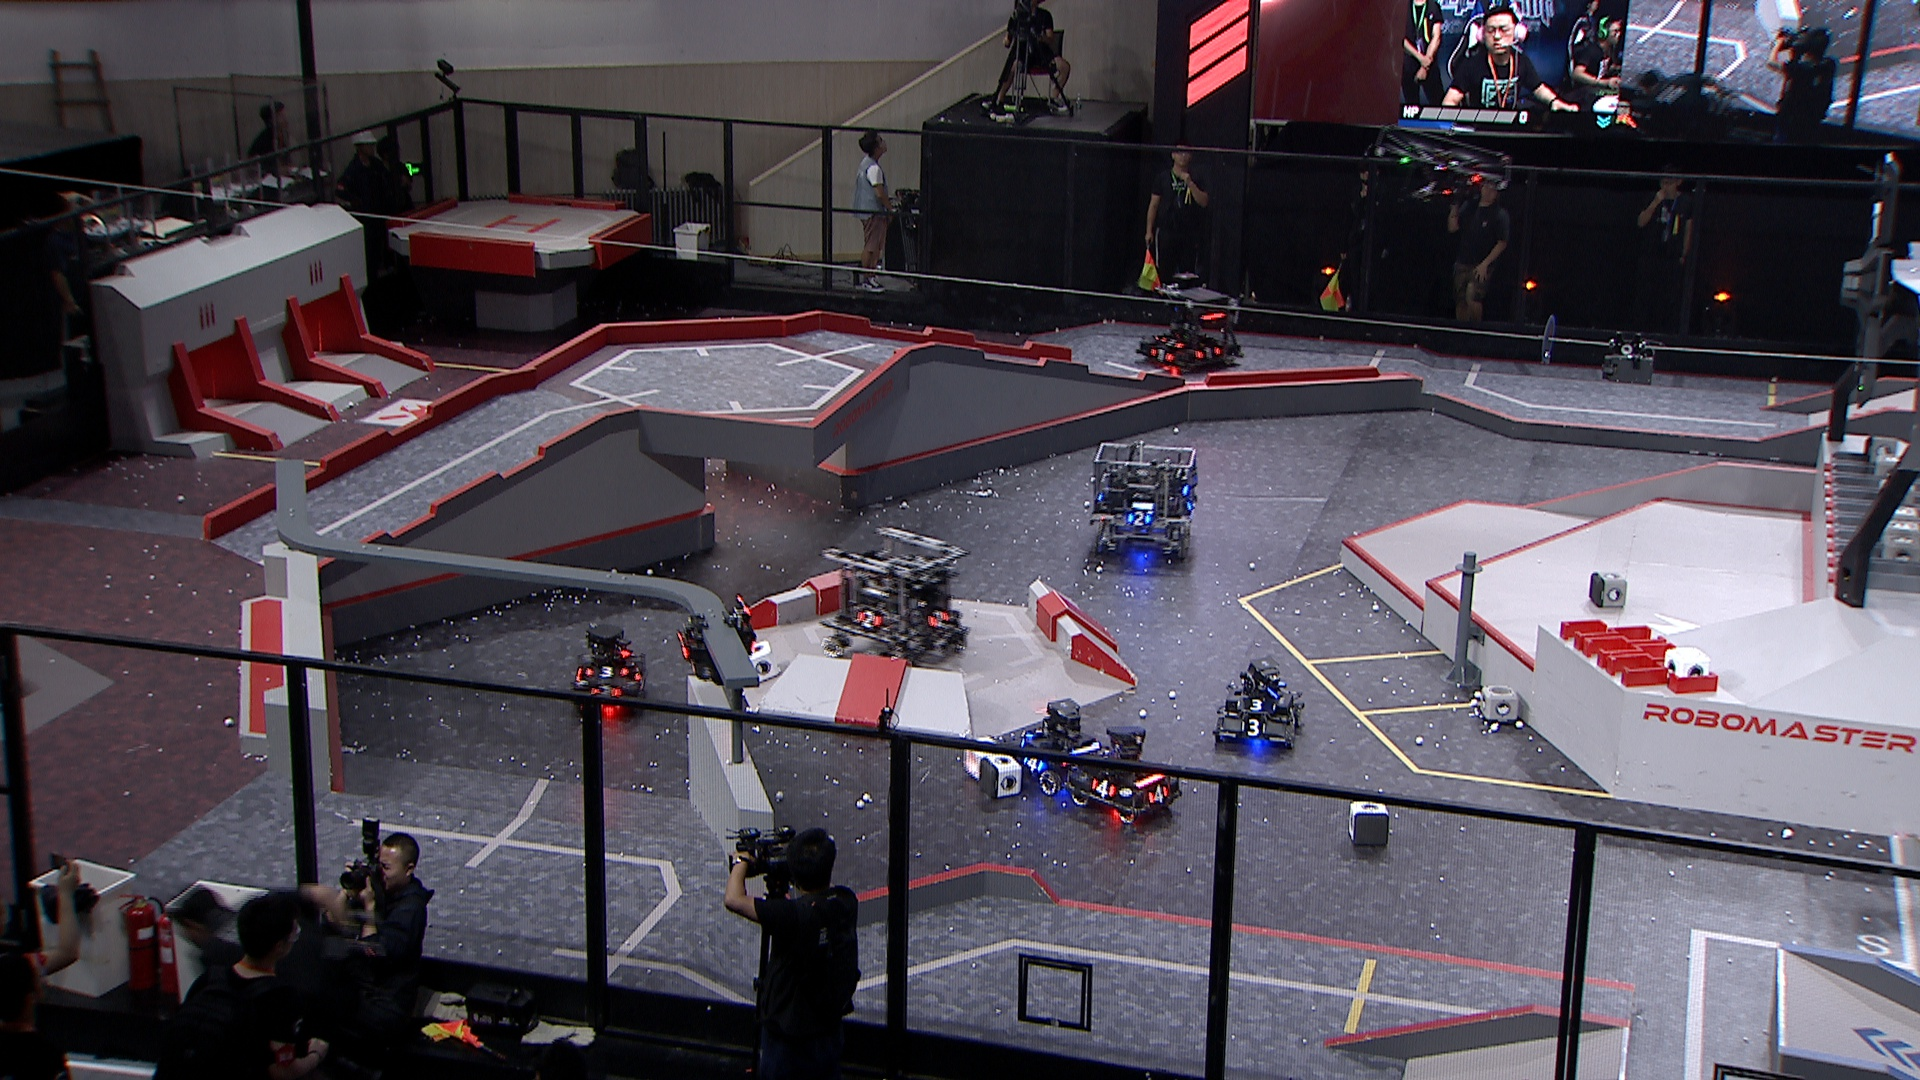armor: (1091, 777, 1120, 802), (1234, 698, 1276, 713), (1192, 343, 1222, 363), (585, 665, 626, 679), (1240, 717, 1267, 738), (674, 632, 694, 659), (926, 609, 949, 632), (858, 611, 882, 632), (1126, 510, 1153, 529), (588, 684, 621, 699), (1149, 348, 1176, 365), (1021, 756, 1044, 775), (1158, 335, 1187, 349), (1147, 785, 1168, 804), (1287, 707, 1300, 727)
car: (816, 527, 973, 673), (1088, 436, 1197, 568), (1060, 725, 1185, 827), (1138, 273, 1247, 376), (1006, 698, 1112, 796), (1215, 655, 1305, 756), (570, 622, 647, 717)
watcher: (674, 593, 757, 684)
